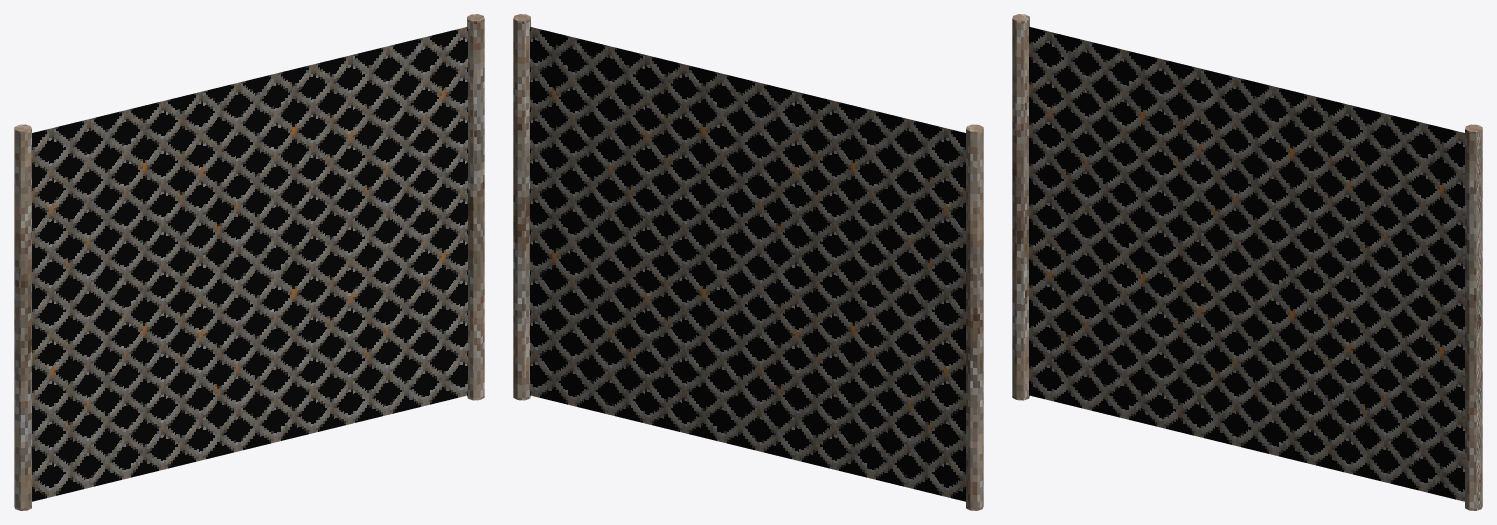
File: Chainlink fence.glb
3 views of the same model, side by side, from view 1: azimuth 30°, elevation 25°; view 2: azimuth 150°, elevation 25°; view 3: azimuth 330°, elevation 25° (orthographic).
Visible parts, largest first — view 1: Cube.001; view 2: Cube.001; view 3: Cube.001.
Boxes of the visible parts, x1,y1,x2,y2 form: Cube.001: [14, 14, 484, 510]; Cube.001: [513, 14, 983, 510]; Cube.001: [1012, 14, 1482, 510].
Bounding box in the file's own units: 6.67 × 5.15 × 0.2199.
2 materials, 2 textured.
